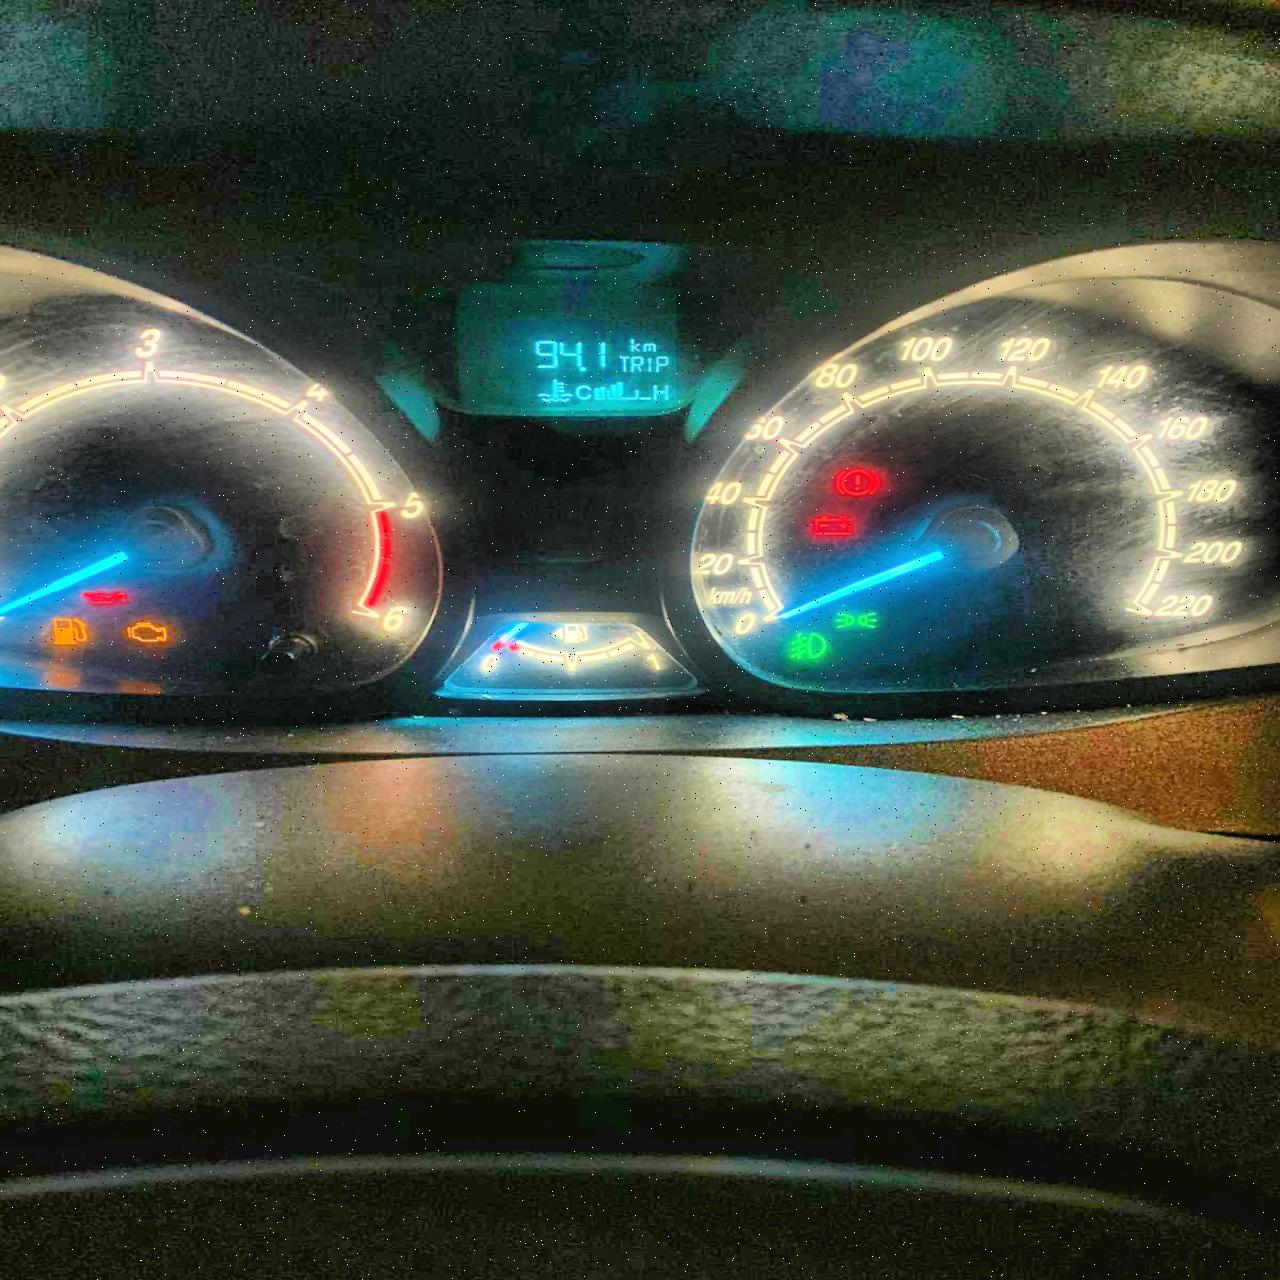-: (578, 366, 587, 370)
1: (595, 340, 607, 368)
4: (557, 340, 583, 366)
9: (531, 339, 557, 369)
X: (651, 382, 670, 400), (654, 354, 670, 373), (573, 384, 592, 400), (629, 355, 644, 372), (617, 354, 629, 372), (628, 338, 640, 352), (641, 342, 656, 352), (645, 356, 653, 372)
odometer: (520, 333, 682, 409)
